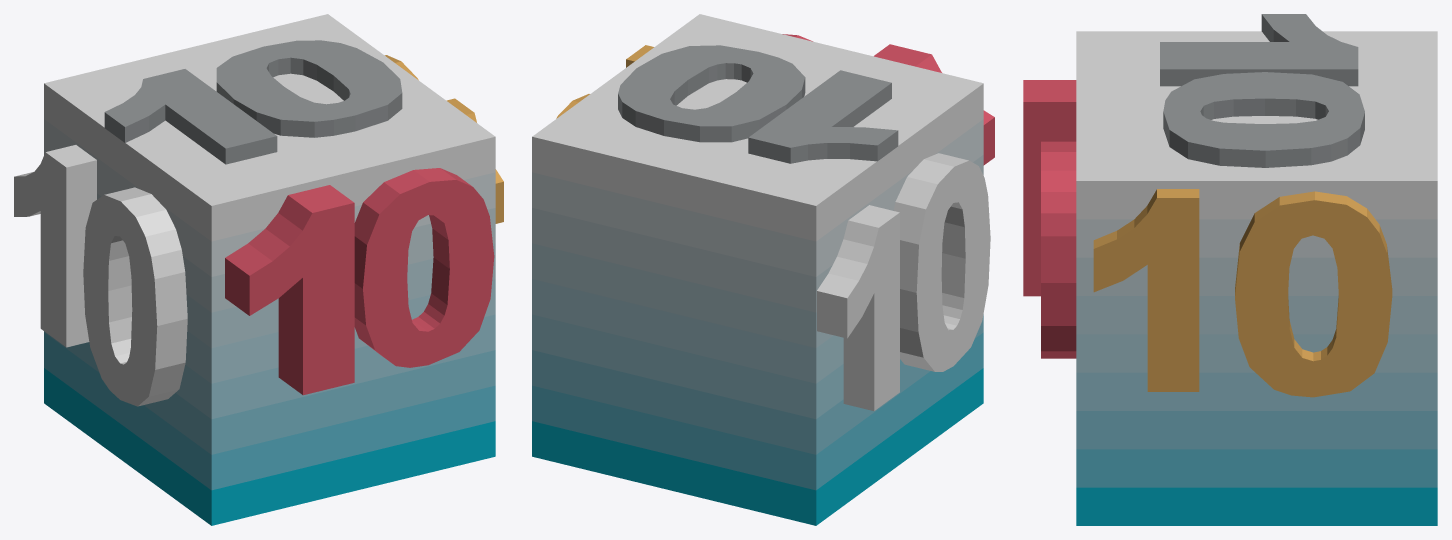
Rendered from number10.glb.
The picture shows the model from 3 angles, left to right: view 1: azimuth 30°, elevation 25°; view 2: azimuth 150°, elevation 25°; view 3: azimuth 270°, elevation 25°; orthographic projection. The views are drawn at different scales.
Parts seen in each view (by area): view 1: Mesh_Mesh_head_geo.001_lambert2SG.001; view 2: Mesh_Mesh_head_geo.001_lambert2SG.001; view 3: Mesh_Mesh_head_geo.001_lambert2SG.001.
Boxes of the visible parts, x1,y1,x2,y2 form: Mesh_Mesh_head_geo.001_lambert2SG.001: (14, 14, 503, 525); Mesh_Mesh_head_geo.001_lambert2SG.001: (532, 14, 994, 525); Mesh_Mesh_head_geo.001_lambert2SG.001: (1023, 14, 1437, 525).
Bounding box in the file's own units: 0.098 × 0.095 × 0.0985.
